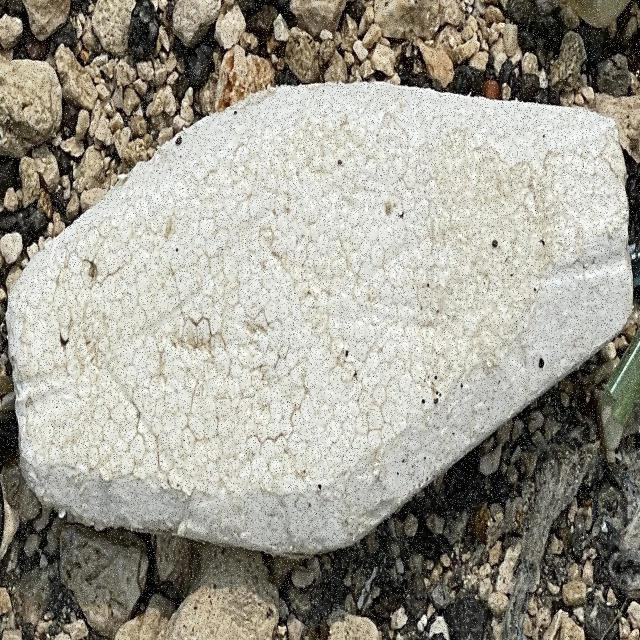styrofoam_waste: (9, 83, 636, 572)
